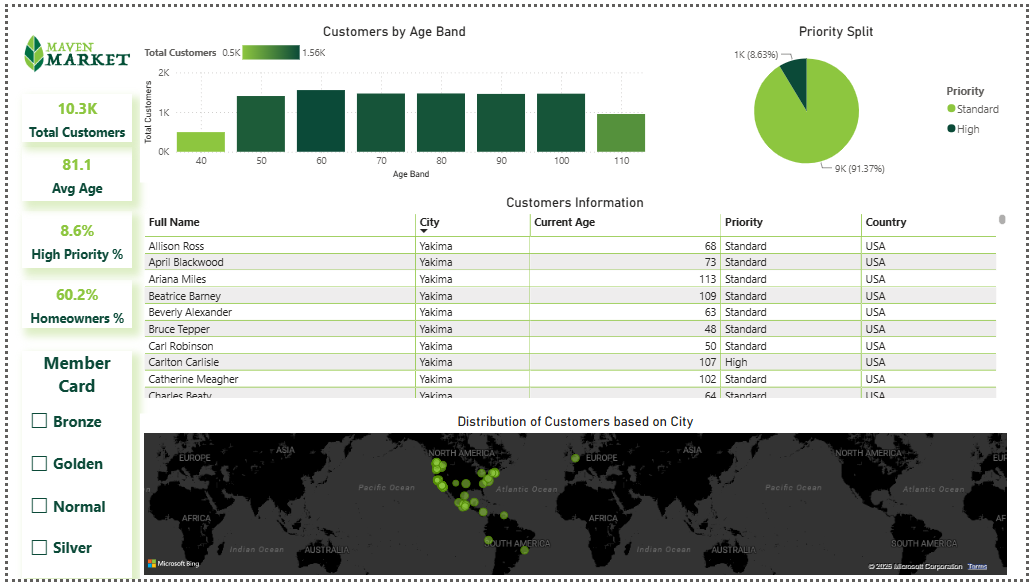

The page's visual inventory and layout, read from the dashboard file:
{"tool":"powerbi","page":{"name":"Customer Detail","canvas":[1280,720],"ordinal":2},"visuals":[{"type":"image","box":[16.4,19.7,139.3,78.7],"z":0},{"type":"card","fields":{"Values":["Customers.Total Customers"]},"box":[16.4,109.8,139.3,60.7],"z":1000},{"type":"card","fields":{"Values":["Customers.Avg Age"]},"box":[16.4,175.4,139.3,68.9],"z":2000},{"type":"card","fields":{"Values":["Customers.High Priority %"]},"box":[16.4,257.4,139.3,72.1],"z":3000},{"type":"card","fields":{"Values":["Customers.Homeowners %"]},"box":[16.4,342.6,139.3,60.7],"z":4000},{"type":"slicer","title":"Member Card","fields":{"Values":["Customers.member_card"]},"box":[16.4,432.8,139.3,286.9],"z":5000},{"type":"columnChart","title":"Customers by Age Band","fields":{"Category":["Customers.Age Band"],"Y":["Customers.Total Customers"]},"box":[166,20,640,200],"z":6000},{"type":"pieChart","title":"Priority Split","fields":{"Category":["Customers.Priority"],"Y":["Customers.Total Customers"]},"box":[822,20,438,200],"z":7000},{"type":"tableEx","title":"Customers Information","fields":{"Values":["Customers.Full Name","Customers.customer_city","Customers.Current Age","Customers.Priority","Customers.customer_country"]},"box":[166,236,1094,260],"z":8000},{"type":"map","title":"Distribution of Customers based on City","fields":{"Category":["Customers.customer_city"],"Size":["Customers.Total Customers"]},"box":[165.6,511.5,1095.1,208.2],"z":9000}]}

Visuals, with their boxes in screenshot pixels (x1, y1, x2, y2), scaled from the page's 1280x720 canvas onto the 1034x585 screenshot:
image: rect(13, 16, 126, 80)
card - Customers.Total Customers: rect(13, 89, 126, 139)
card - Customers.Avg Age: rect(13, 143, 126, 198)
card - Customers.High Priority %: rect(13, 209, 126, 268)
card - Customers.Homeowners %: rect(13, 278, 126, 328)
"Member Card" slicer: rect(13, 352, 126, 584)
"Customers by Age Band" columnChart: rect(134, 16, 651, 179)
"Priority Split" pieChart: rect(664, 16, 1018, 179)
"Customers Information" tableEx: rect(134, 192, 1018, 403)
"Distribution of Customers based on City" map: rect(134, 416, 1018, 584)
